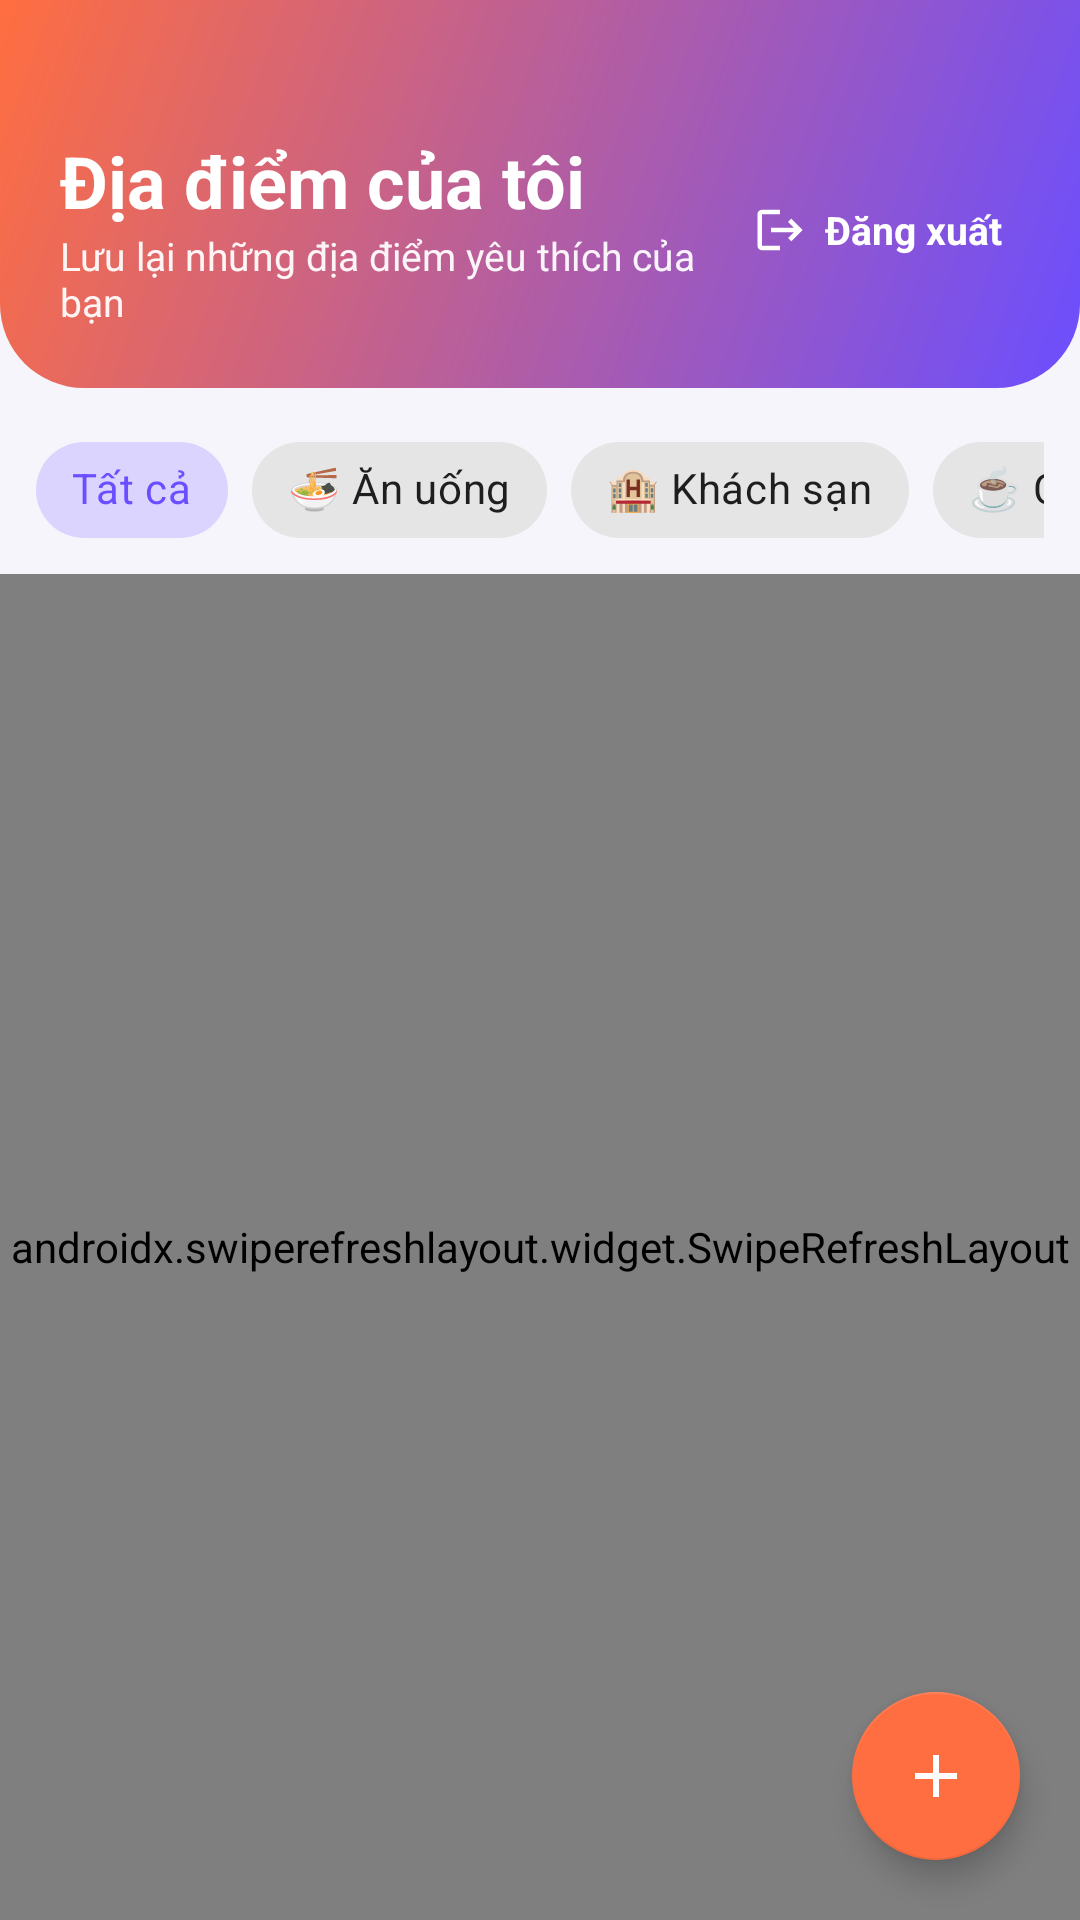

Where to tap for icons on this 1080*1920 app screen, as point (x, y):
Thêm địa điểm: point (936, 1776)
